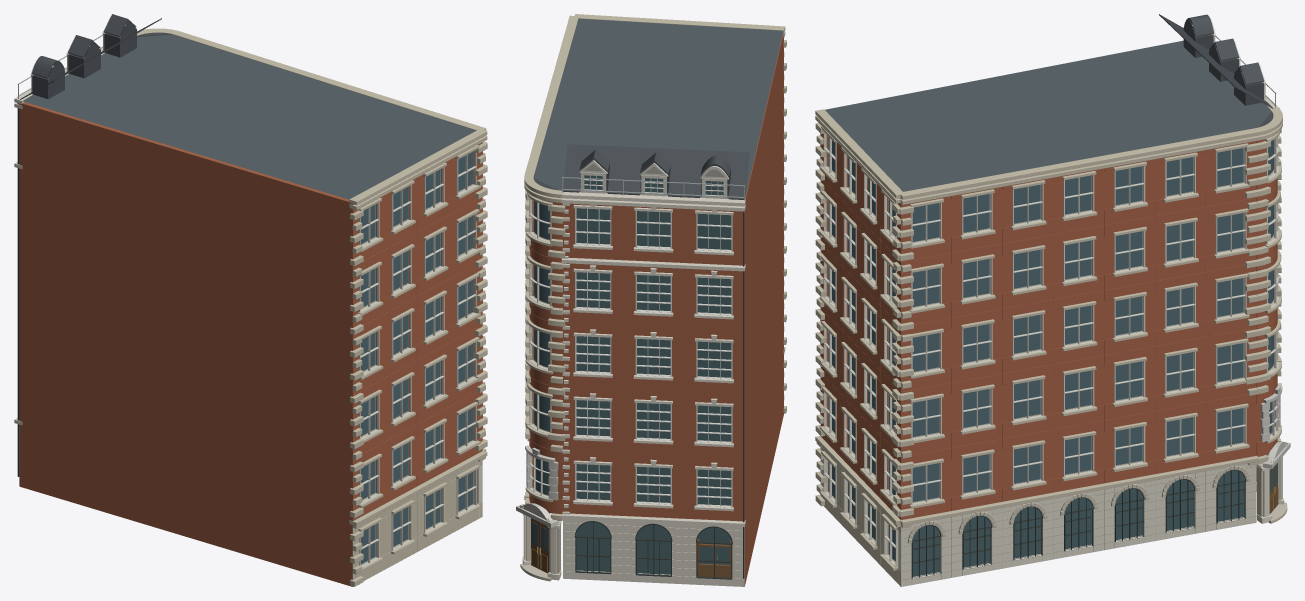
Rendered from 51l-exterior-42055d359ac4.glb.
3 renders of one model, left to right at view 1: azimuth 30°, elevation 25°; view 2: azimuth 150°, elevation 25°; view 3: azimuth 270°, elevation 25°, orthographic.
Visible parts, largest first — view 1: 51L.001; view 2: 51L.001; view 3: 51L.001.
Part boxes in pixels (bbox=[...]): 51L.001: bbox=[14, 14, 487, 586]; 51L.001: bbox=[516, 14, 786, 586]; 51L.001: bbox=[815, 14, 1290, 586].
Bounding box in the file's own units: 18.34 × 22.82 × 22.96.
